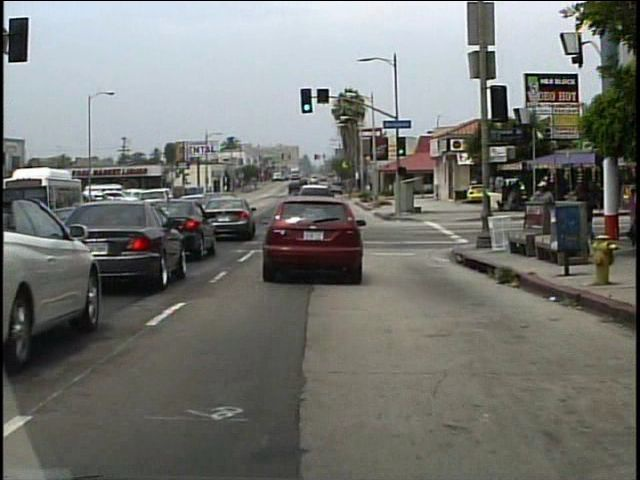person: (529, 176, 557, 248), (576, 178, 594, 246)
